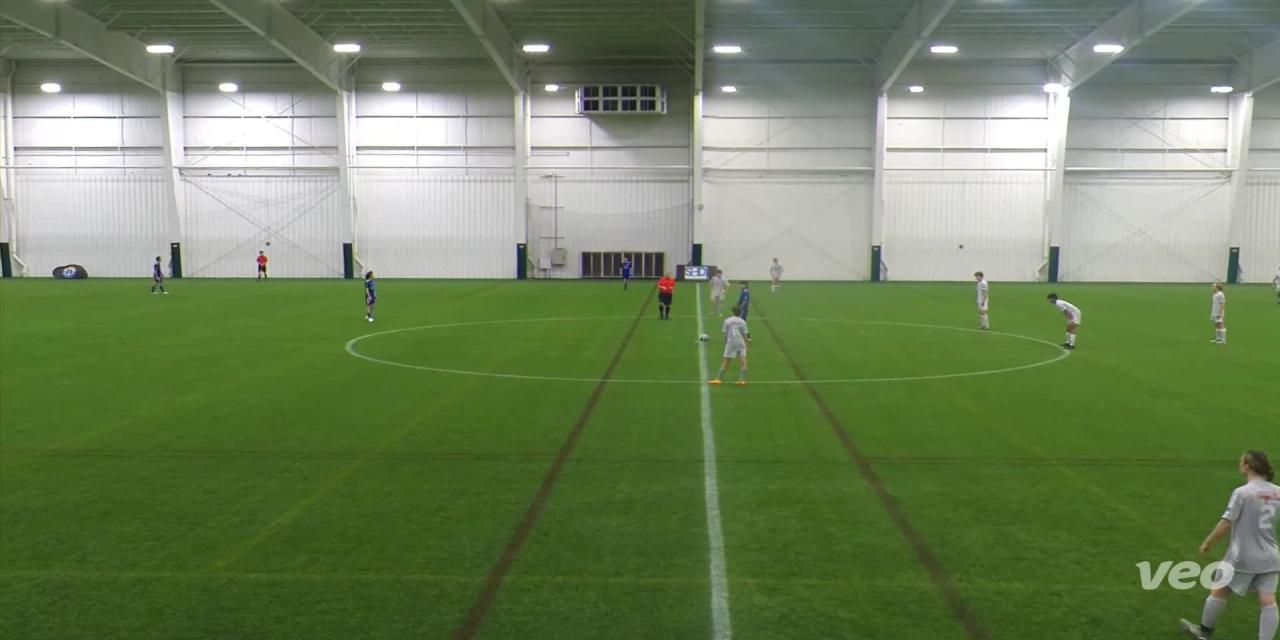sports ball: (693, 328, 713, 346)
